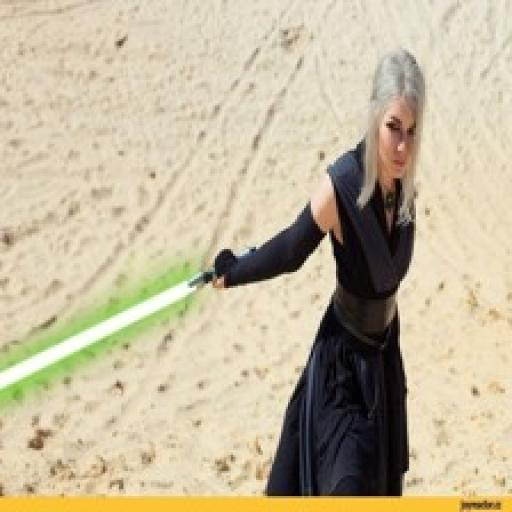human: (208, 38, 462, 486)
lightsaber: (0, 243, 266, 438)
